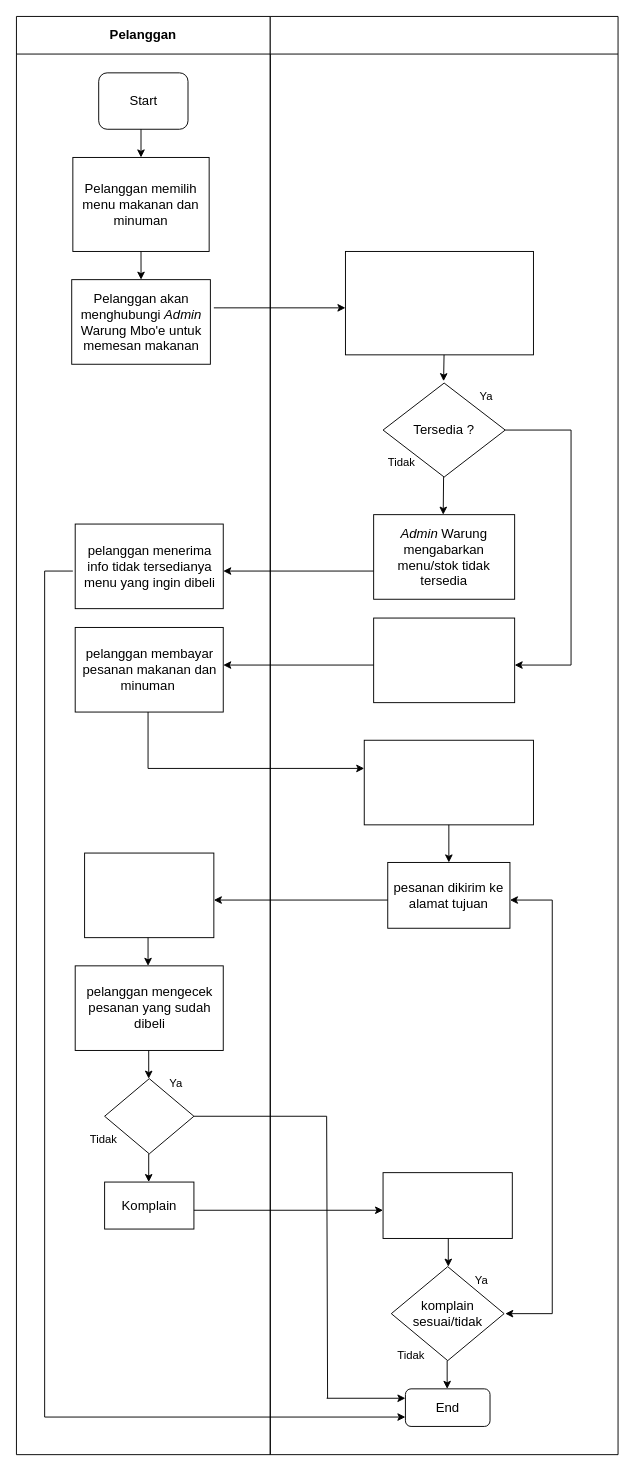
This 635x1471 diagram has some shape labels left out. The shapes that lost their labels are listed below. From the top down, each one's box as (x1, y1, x2, y2) in pixels, then its label:
(345, 251, 533, 355): Admin Warung mengecek stok makanan dan minuman yang ingin di pesan pelanggan
(373, 617, 515, 703): Admin Warung membuat rincian total yang harus dibayar oleh pelanggan
(269, 16, 618, 1455): Admin Warung Mbo'e
(363, 739, 533, 825): Admin Warung menerima pembayaran pemesanan makanan dan memproses
(84, 852, 214, 938): pesanan makanan diterima pelanggan
(104, 1078, 194, 1154): Sesuai ?
(382, 1172, 512, 1238): Admin Warung memproses komplain pelanggan
